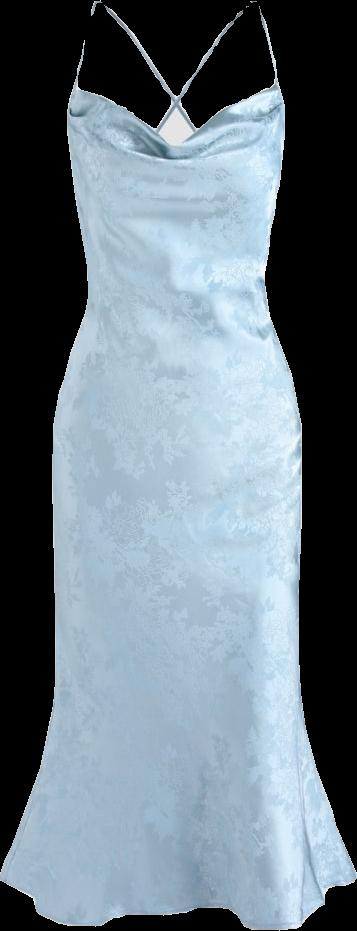Bodice: (67, 84, 284, 302)
Hemline: (0, 868, 356, 930)
Neckline: (70, 83, 281, 148)
Skirt: (0, 300, 356, 928)
